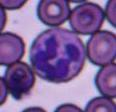N: (29, 28, 85, 82)
